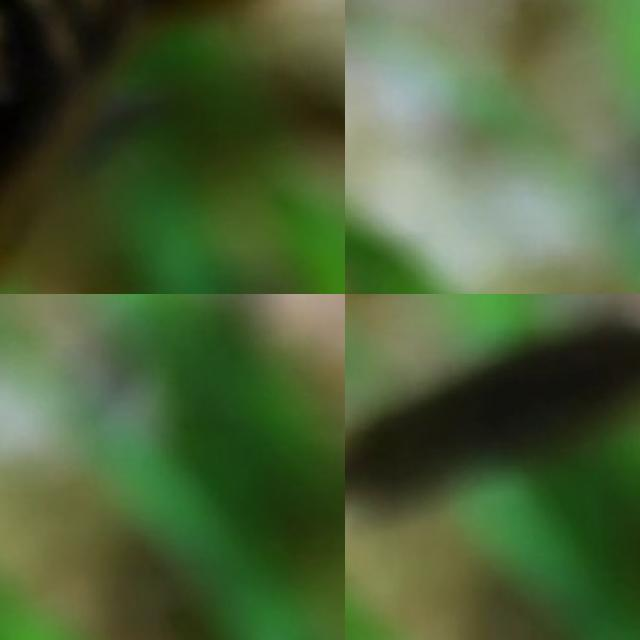fish: (0, 0, 345, 294)
